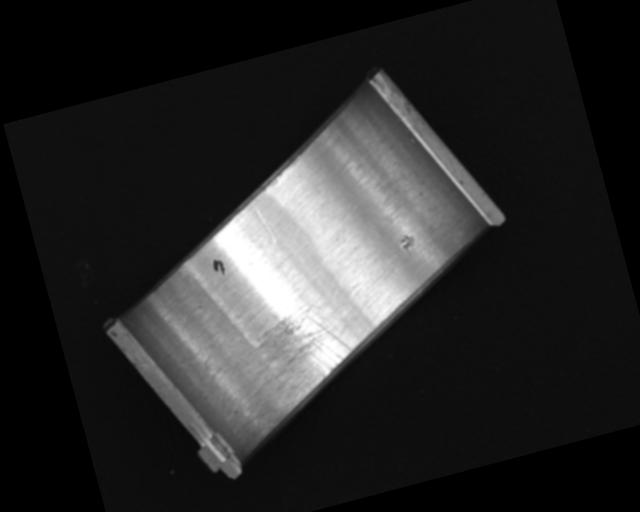blot: (210, 256, 226, 277)
bruise: (397, 233, 417, 255)
nick: (253, 200, 277, 247)
scratch: (235, 296, 366, 434)
